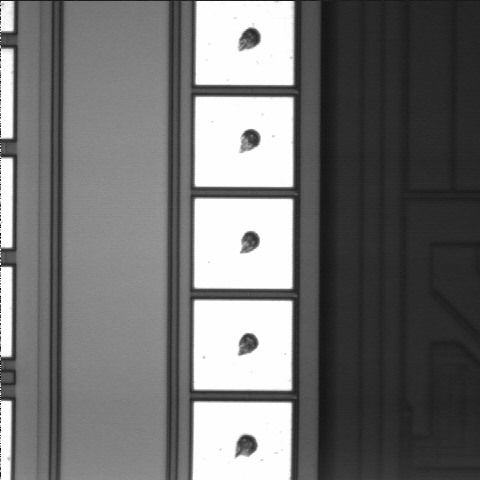pad: (194, 199, 293, 289), (195, 97, 293, 187), (194, 300, 292, 390)
